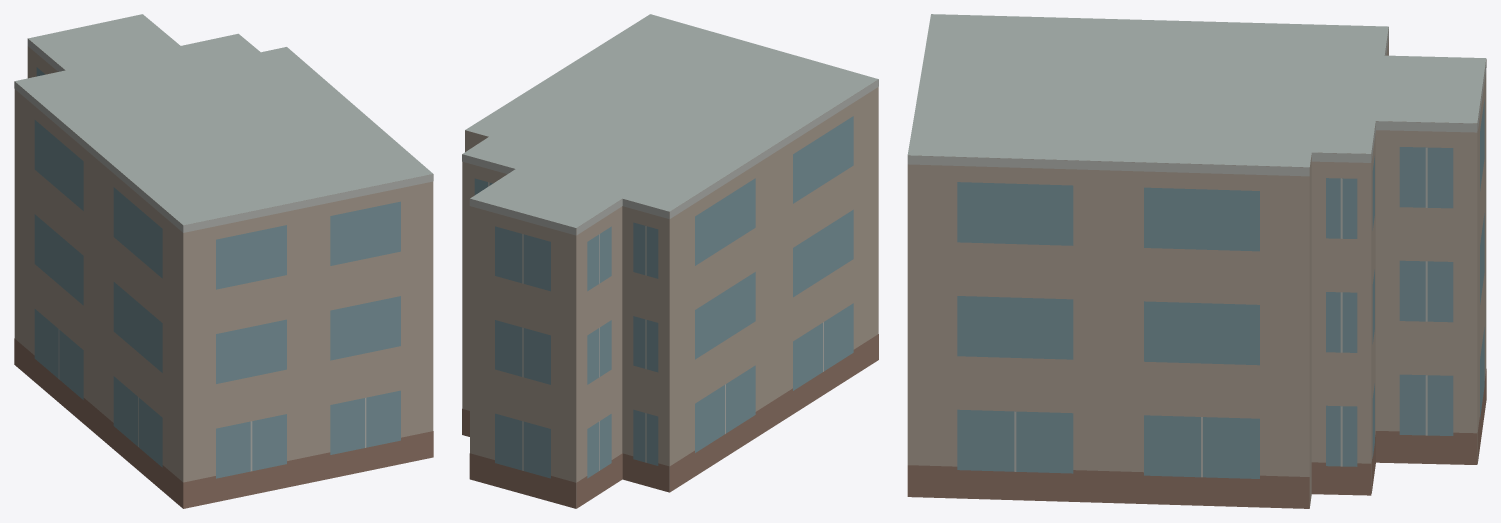
File: survey-upis-32828804.glb
3 renders of one model, left to right at view 1: azimuth 30°, elevation 25°; view 2: azimuth 150°, elevation 25°; view 3: azimuth 270°, elevation 25°, orthographic. The views are drawn at different scales.
Visible parts, largest first — view 1: survey-upis-32828804.tmp; view 2: survey-upis-32828804.tmp; view 3: survey-upis-32828804.tmp.
Part boxes in pixels (x1,y1,x2,y2): survey-upis-32828804.tmp: [14, 14, 433, 508]; survey-upis-32828804.tmp: [462, 14, 878, 508]; survey-upis-32828804.tmp: [907, 14, 1486, 508].
Size of the model in its own units: 8.82 by 9.15 by 14.06.
